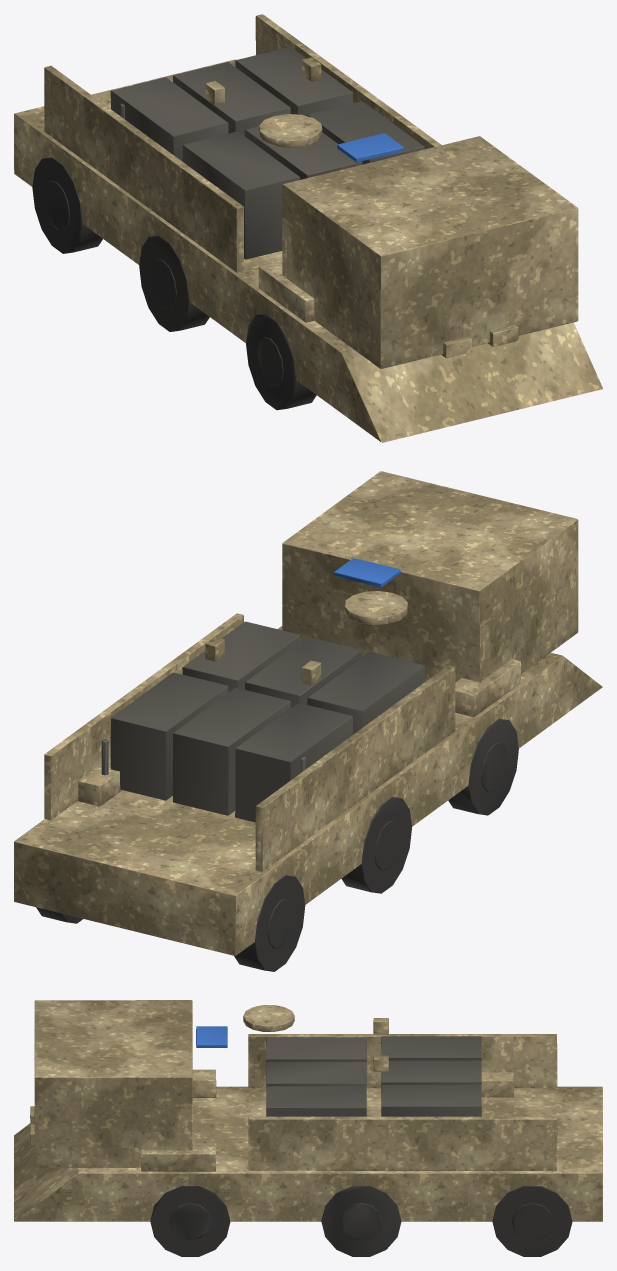
File: log_e4_us_ammotruck_LOD1.glb
The picture shows the model from 3 angles, top to bottom: view 1: azimuth 30°, elevation 25°; view 2: azimuth 150°, elevation 25°; view 3: azimuth 270°, elevation 25°; orthographic projection. The views are drawn at different scales.
Visible parts, largest first — view 1: log_e4_us_ammotruck_LOD1_body, log_e4_us_ammotruck_LOD1_deck, log_e4_us_ammotruck_LOD1_track, log_e4_us_ammotruck_LOD1_team; view 2: log_e4_us_ammotruck_LOD1_body, log_e4_us_ammotruck_LOD1_deck, log_e4_us_ammotruck_LOD1_track, log_e4_us_ammotruck_LOD1_team; view 3: log_e4_us_ammotruck_LOD1_body, log_e4_us_ammotruck_LOD1_deck, log_e4_us_ammotruck_LOD1_track, log_e4_us_ammotruck_LOD1_team.
Boxes of the visible parts, x1,y1,x2,y2 form: log_e4_us_ammotruck_LOD1_body: [14, 14, 602, 442]; log_e4_us_ammotruck_LOD1_deck: [110, 47, 424, 259]; log_e4_us_ammotruck_LOD1_track: [32, 157, 316, 410]; log_e4_us_ammotruck_LOD1_team: [337, 133, 403, 162]; log_e4_us_ammotruck_LOD1_body: [14, 471, 602, 955]; log_e4_us_ammotruck_LOD1_deck: [110, 621, 424, 822]; log_e4_us_ammotruck_LOD1_track: [36, 718, 518, 971]; log_e4_us_ammotruck_LOD1_team: [334, 558, 400, 587]; log_e4_us_ammotruck_LOD1_body: [14, 1000, 602, 1221]; log_e4_us_ammotruck_LOD1_deck: [266, 1036, 481, 1116]; log_e4_us_ammotruck_LOD1_track: [150, 1186, 572, 1256]; log_e4_us_ammotruck_LOD1_team: [196, 1026, 227, 1047].
Size of the model in its own units: 2.9 by 2.78 by 8.19.
5 materials, 1 textured.
